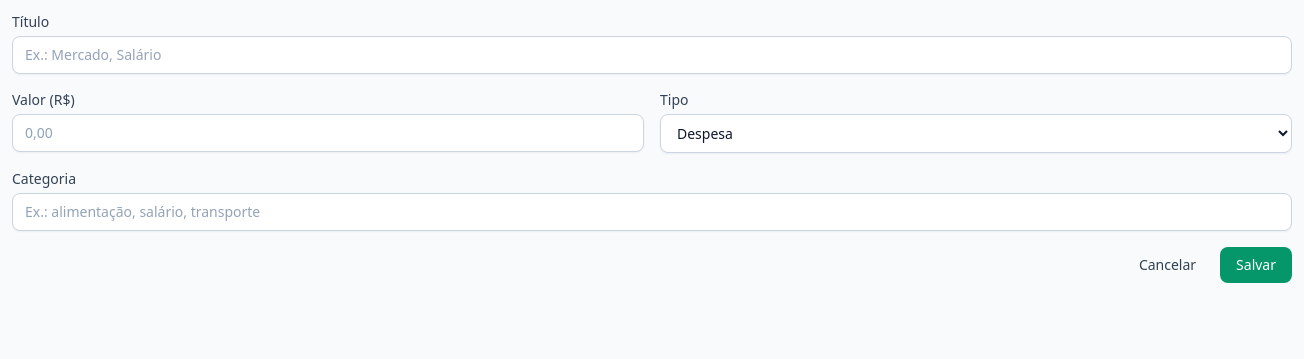
Test case: <TransactionForm /> › shows validation messages for empty submit
The image size is (1304, 359).
Click the button "Salvar" at (1256, 265), box [1220,247,1292,283]
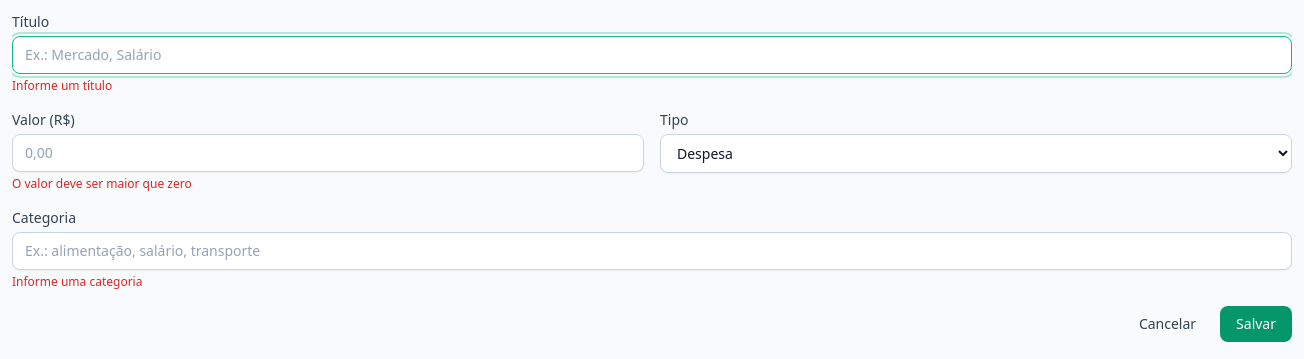
Expected: the text "Informe um título" is shown, [12,77,112,94]
